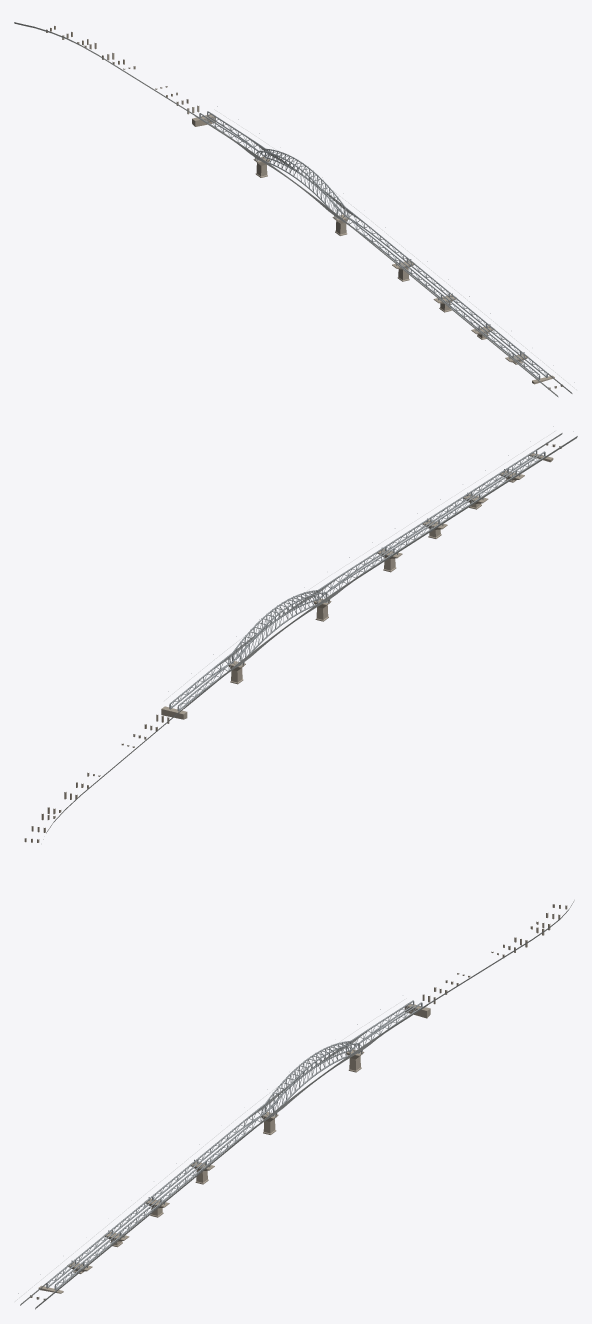
The model's file is auckland-harbour-bridge.glb.
The picture shows the model from 3 angles, top to bottom: view 1: azimuth 30°, elevation 25°; view 2: azimuth 150°, elevation 25°; view 3: azimuth 330°, elevation 25°; orthographic projection. The views are drawn at different scales.
Parts seen in each view (by area): view 1: Auckland Harbour Bridge; view 2: Auckland Harbour Bridge; view 3: Auckland Harbour Bridge.
Part boxes in pixels (x1,y1,x2,y2): Auckland Harbour Bridge: (14,22,576,397); Auckland Harbour Bridge: (24,426,577,842); Auckland Harbour Bridge: (15,900,574,1309).
Size of the model in its own units: 75.08 by 65.22 by 1607.
